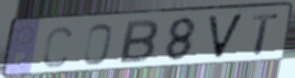0: (83, 22, 115, 67)
8: (162, 15, 200, 63)
B: (116, 19, 161, 66)
C: (41, 25, 74, 70)
T: (250, 12, 280, 57)
V: (205, 12, 247, 61)
